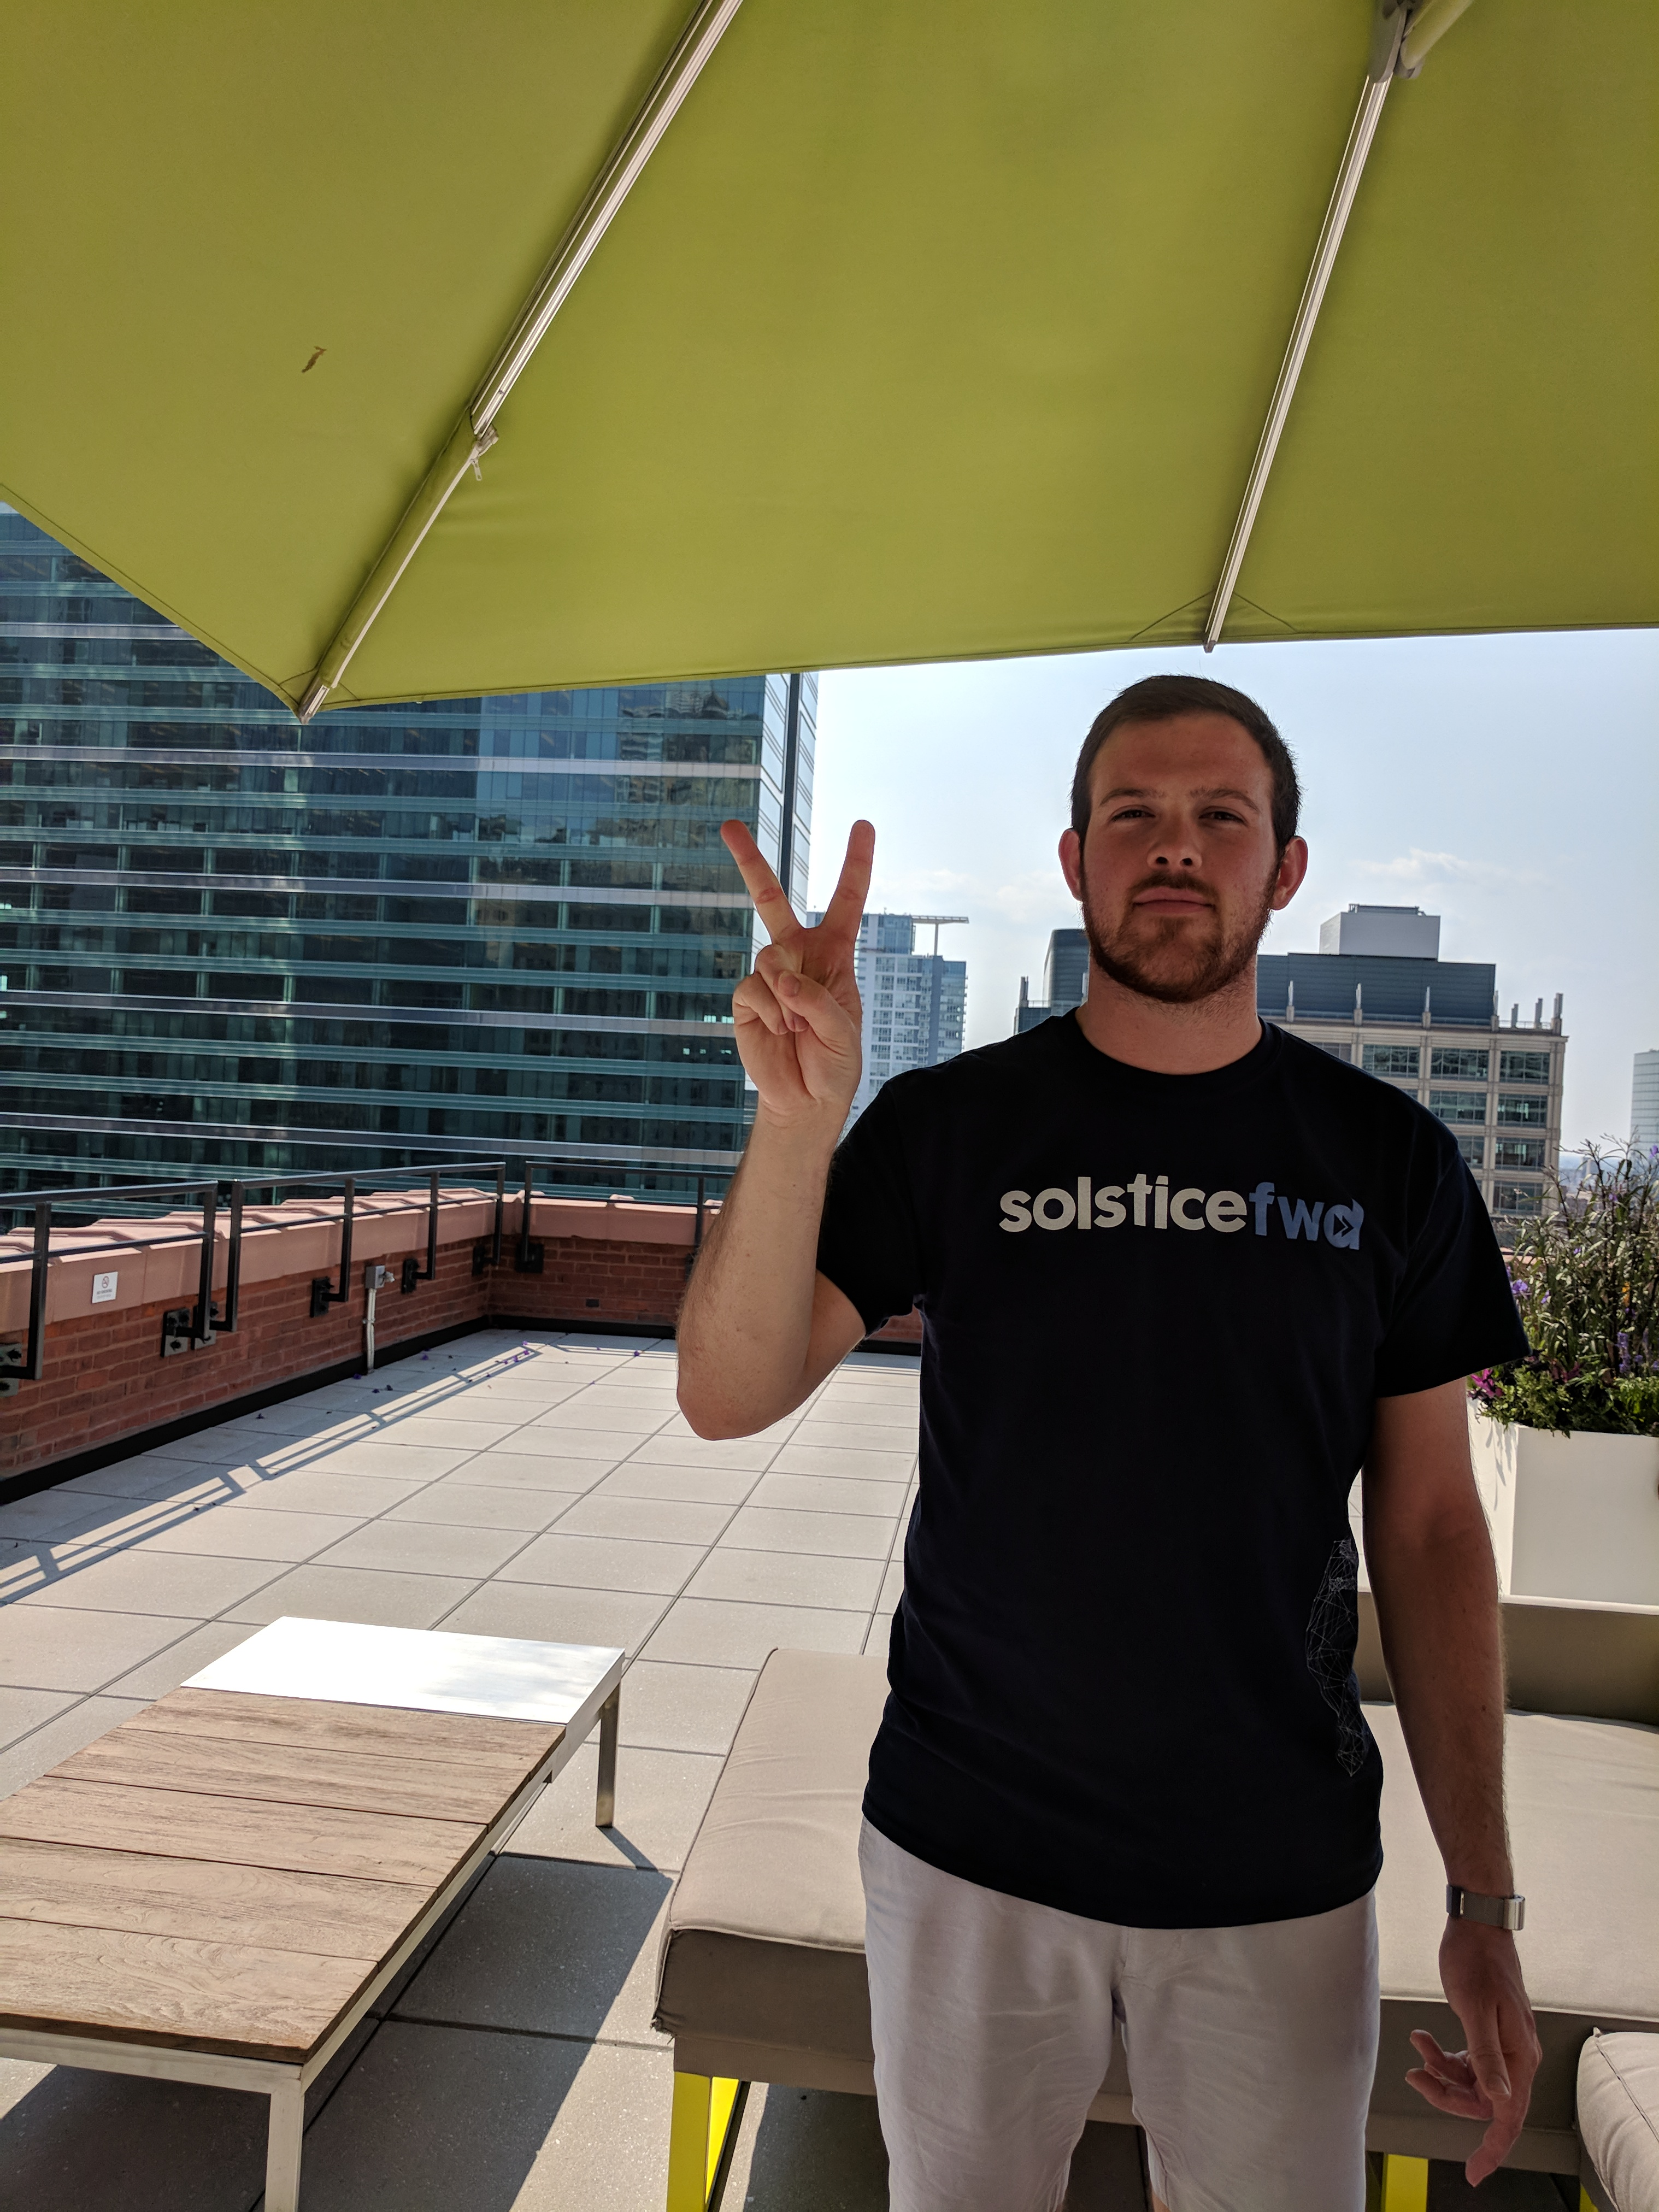v: (697, 810, 889, 1122)
